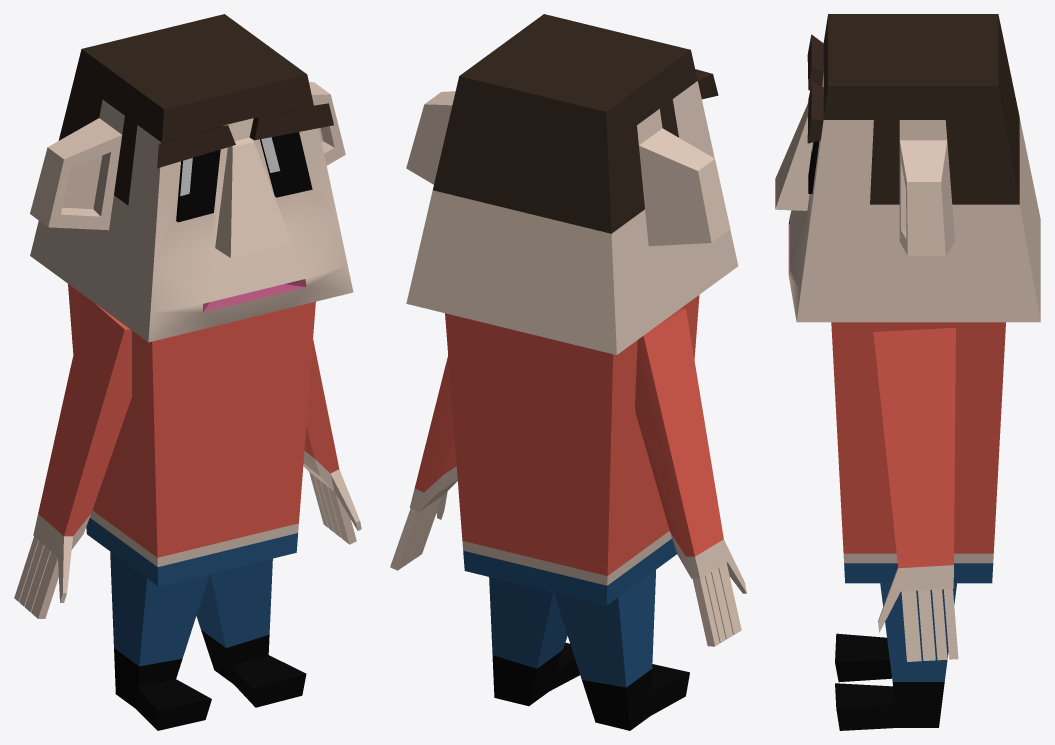
Rendered from chuck.fbx.
3 views of the same model, side by side, from view 1: azimuth 30°, elevation 25°; view 2: azimuth 150°, elevation 25°; view 3: azimuth 270°, elevation 25° (orthographic). The views are drawn at different scales.
Visible parts, largest first — view 1: head, torso, legs, polySurface2, polySurface1; view 2: head, torso, legs, polySurface2, polySurface1; view 3: head, torso, polySurface1, legs.
Part boxes in pixels (<box>): head: <box>30,14,353,342</box>; torso: <box>68,284,315,586</box>; legs: <box>110,552,306,730</box>; polySurface2: <box>14,297,131,618</box>; polySurface1: <box>303,339,361,544</box>; head: <box>406,14,738,354</box>; torso: <box>445,295,699,605</box>; legs: <box>489,570,689,730</box>; polySurface2: <box>635,309,746,646</box>; polySurface1: <box>390,355,457,570</box>; head: <box>775,14,1040,322</box>; torso: <box>831,322,1005,583</box>; polySurface1: <box>873,328,958,661</box>; legs: <box>835,583,956,730</box>.
Size of the model in its own units: 47.43 by 88.95 by 33.19.
